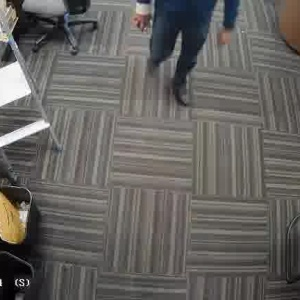person: (141, 0, 227, 114)
